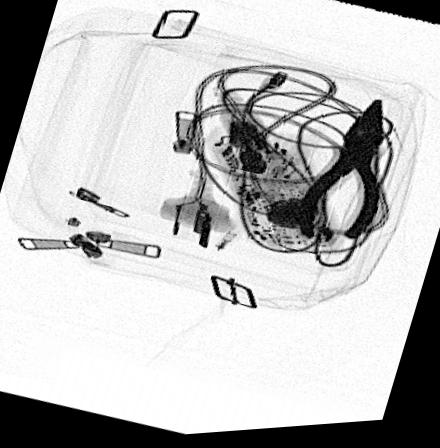Pliers: (293, 101, 388, 246)
